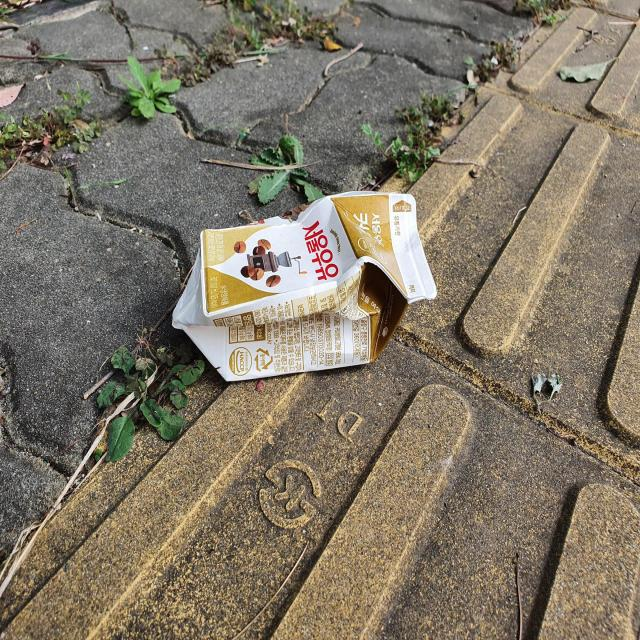paperpack: (172, 191, 437, 381)
